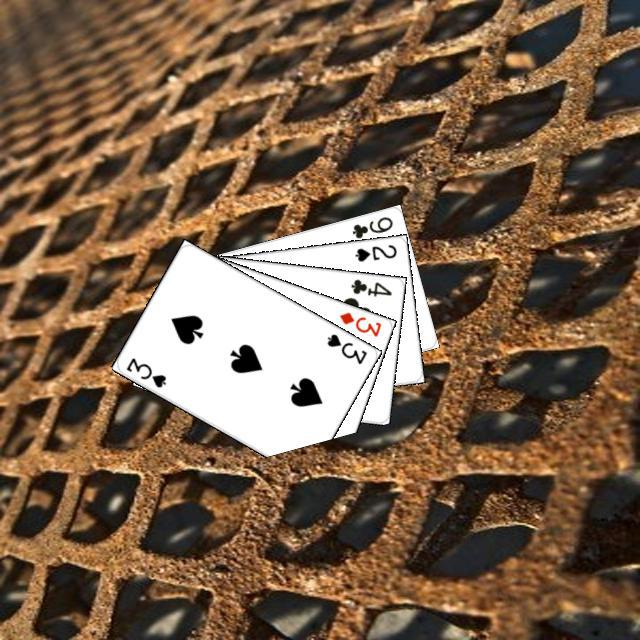2s: (350, 240, 398, 263)
3d: (334, 307, 383, 339)
3s: (322, 329, 369, 366), (121, 353, 168, 390)
4c: (346, 274, 393, 298)
9c: (347, 212, 395, 240)
